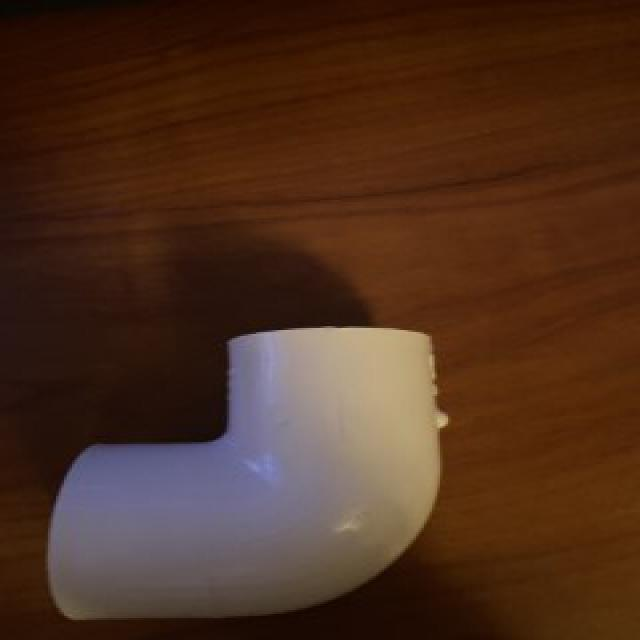L Joint: (46, 327, 449, 624)
